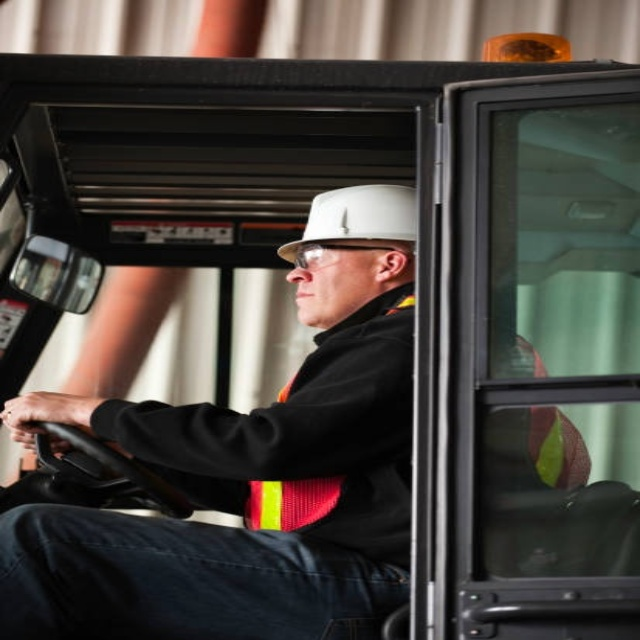Gafas: (292, 243, 400, 269)
Sin_guantes: (5, 386, 96, 434)
Sin_mascara: (288, 284, 322, 318)
